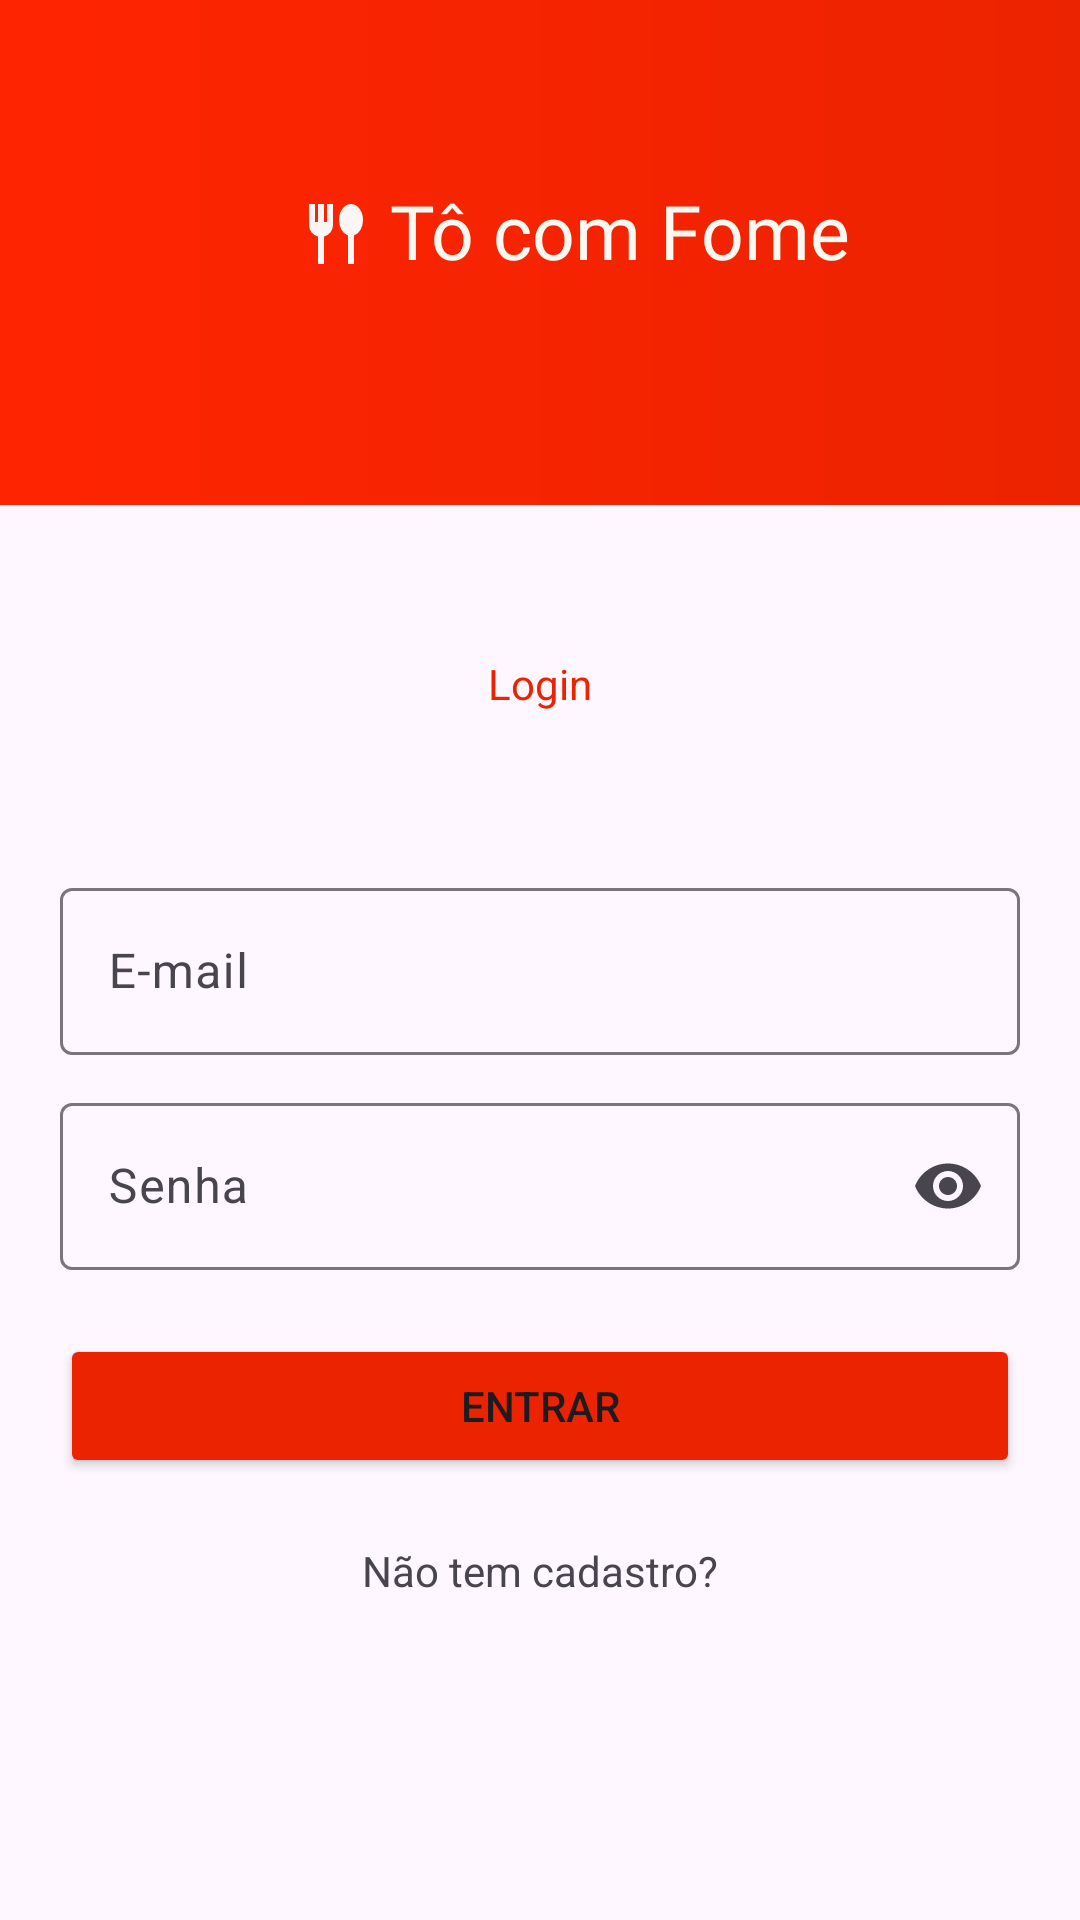

Locate icon controls on the screen. Image size 1080×1920, boxes as bbox=[x1, y1, x2, y2].
fork spoon: bbox=[309, 204, 363, 264]
